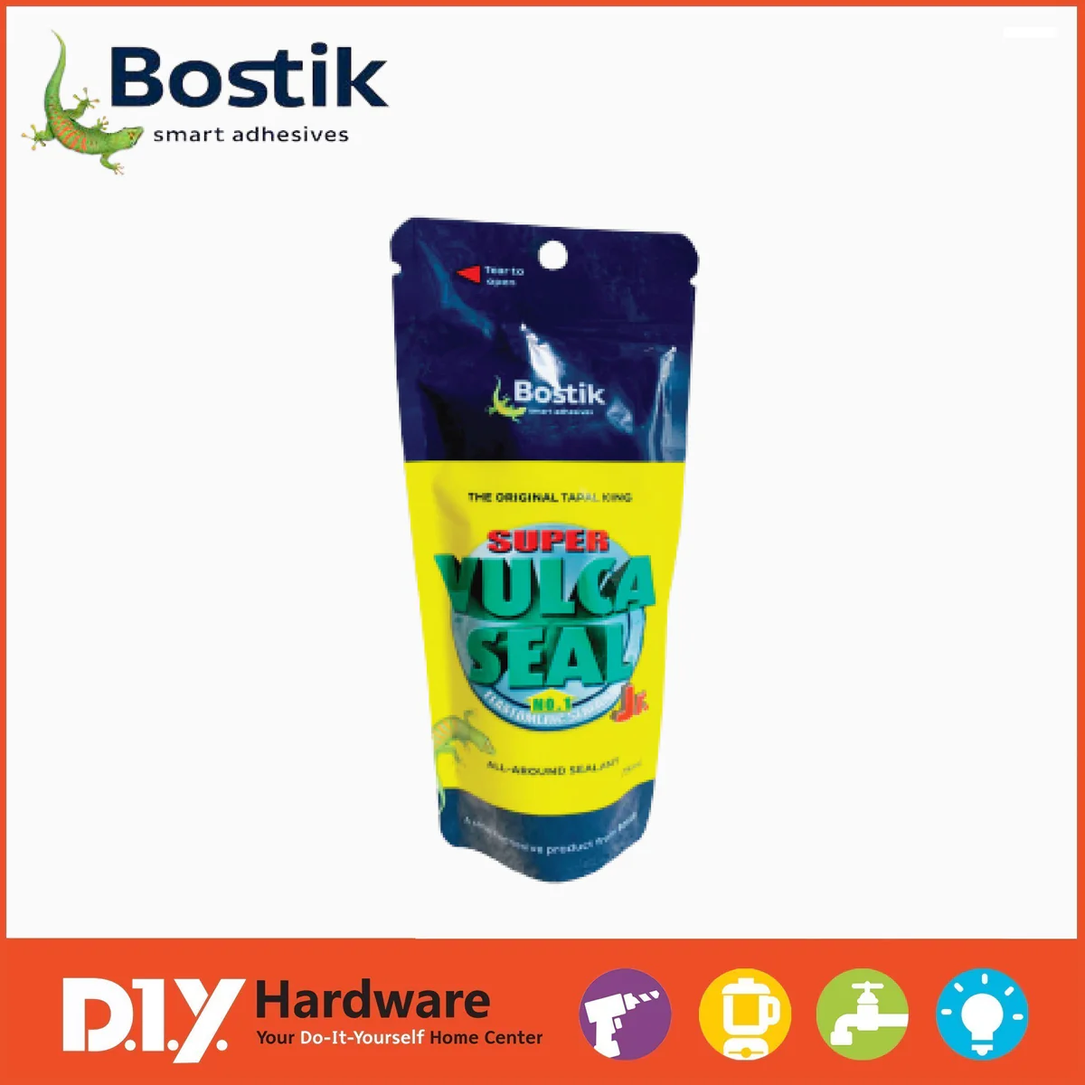toxic_waste: (393, 219, 686, 879)
